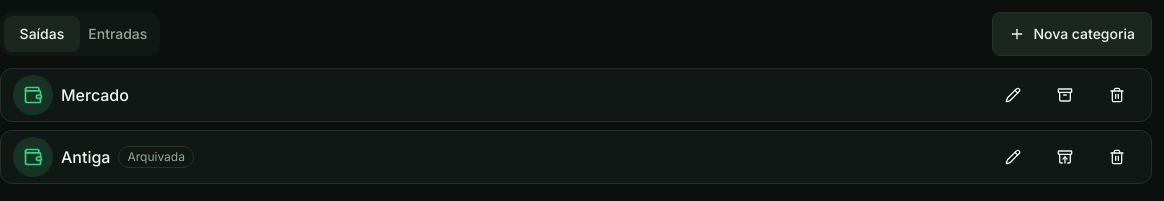
Test: CategoryManager › lista saídas (inclusive arquivadas) e troca para entradas
Expected: the text "Mercado" is shown, [61,83,129,107]
Expected: the text "Antiga" is shown, [61,145,110,169]
Click the tab "Entradas": (118, 34) [80,16,156,52]
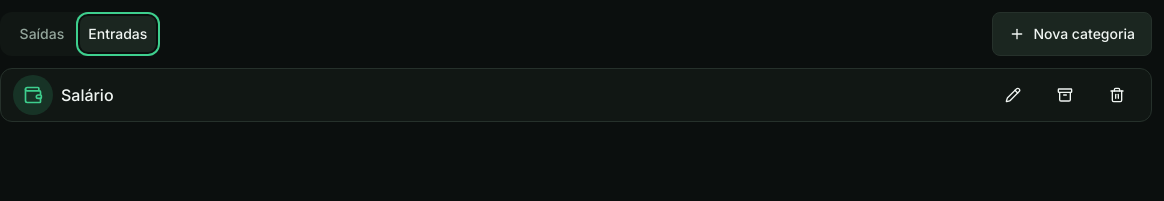
Expected: the text "Salário" is shown, [61,83,114,107]
